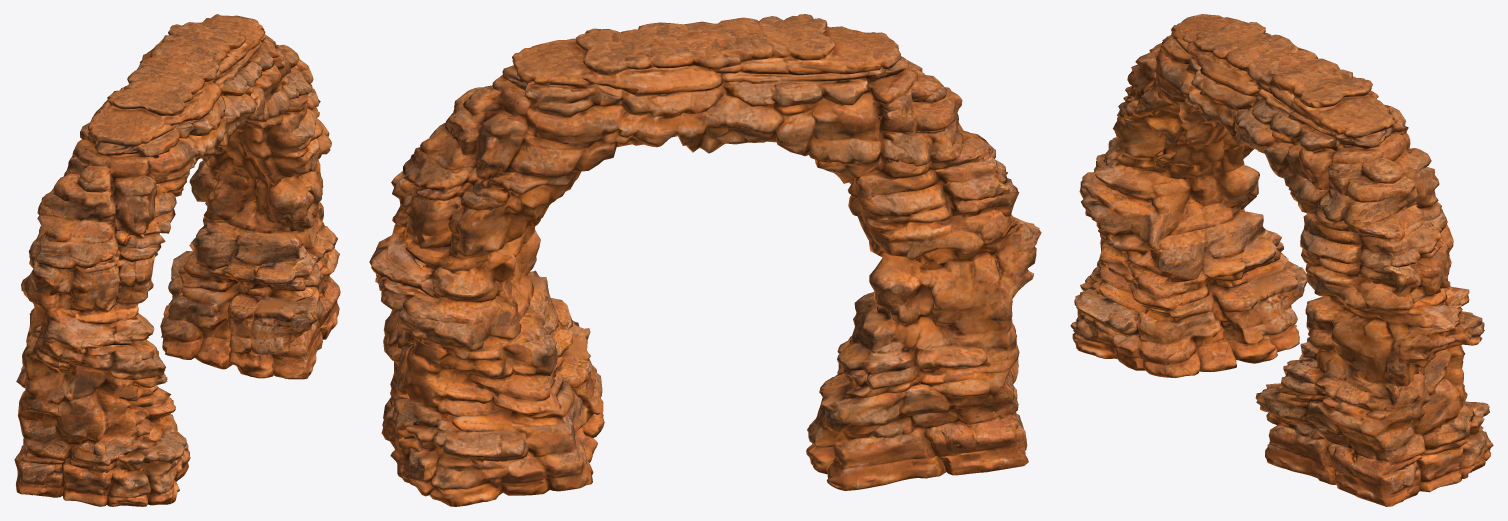
File: stone_arch.glb
The picture shows the model from 3 angles, left to right: view 1: azimuth 30°, elevation 25°; view 2: azimuth 150°, elevation 25°; view 3: azimuth 270°, elevation 25°; orthographic projection. The views are drawn at different scales.
Parts seen in each view (by area): view 1: stone_arch; view 2: stone_arch; view 3: stone_arch.
Boxes of the visible parts, x1,y1,x2,y2 form: stone_arch: (14, 14, 340, 506); stone_arch: (369, 14, 1041, 506); stone_arch: (1070, 14, 1493, 506).
Bounding box in the file's own units: 77.91 × 60 × 66.52.
1 material, 1 textured.
